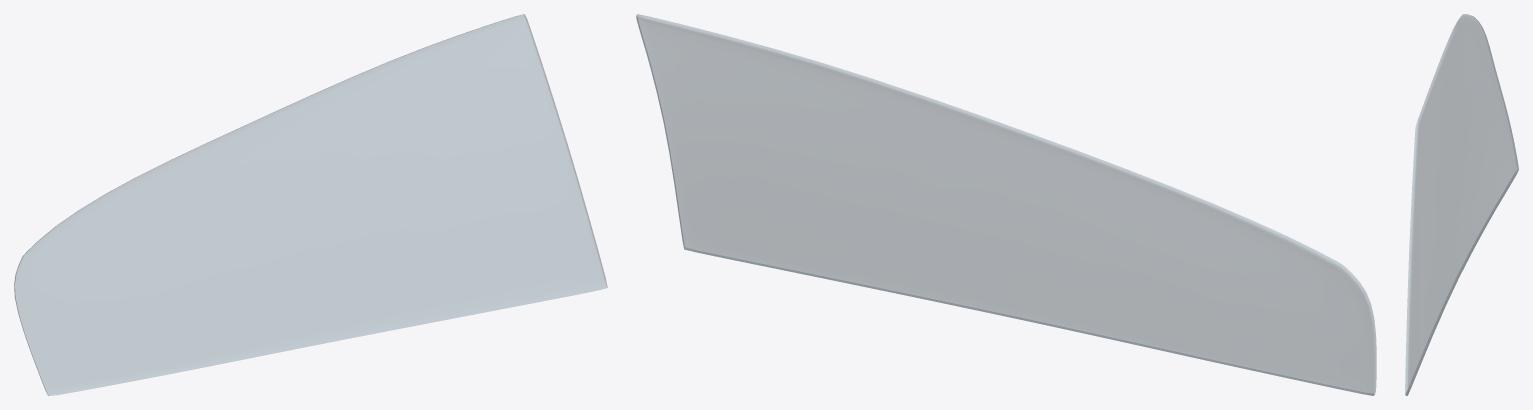
The picture shows the model from 3 angles, left to right: view 1: azimuth 30°, elevation 25°; view 2: azimuth 150°, elevation 25°; view 3: azimuth 270°, elevation 25°; orthographic projection. The views are drawn at different scales.
Parts seen in each view (by area): view 1: SM_DodgeCharger_Door_RR_Glass_Ext2; view 2: SM_DodgeCharger_Door_RR_Glass_Ext2; view 3: SM_DodgeCharger_Door_RR_Glass_Ext2.
Part boxes in pixels (bbox=[...]): SM_DodgeCharger_Door_RR_Glass_Ext2: bbox=[14, 14, 607, 395]; SM_DodgeCharger_Door_RR_Glass_Ext2: bbox=[636, 14, 1376, 395]; SM_DodgeCharger_Door_RR_Glass_Ext2: bbox=[1405, 14, 1518, 395].
Bounding box in the file's own units: 0.8101 × 0.3214 × 0.1527.
